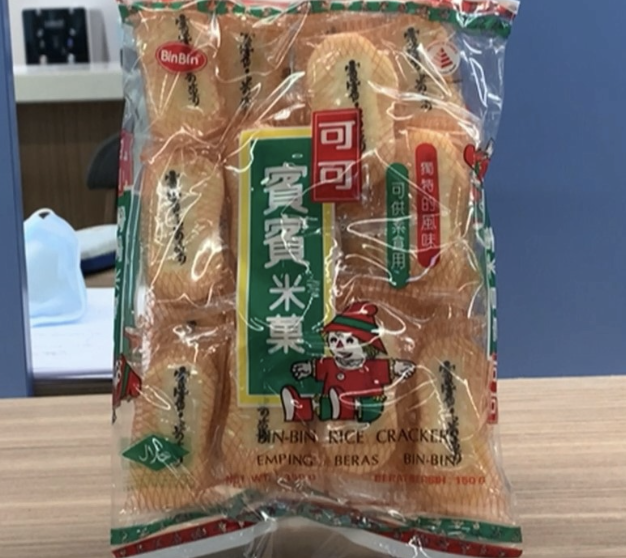halal: (139, 438, 170, 464)
